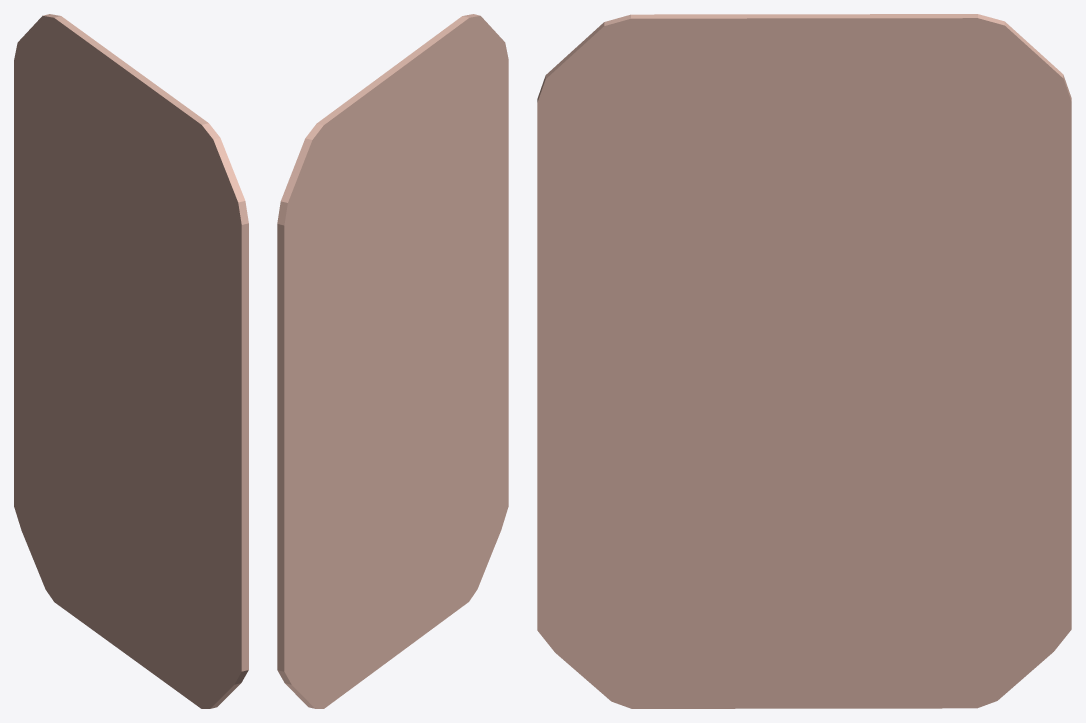
Rendered from SM_Glass_Back_Right.fbx.
The picture shows the model from 3 angles, left to right: view 1: azimuth 30°, elevation 25°; view 2: azimuth 150°, elevation 25°; view 3: azimuth 270°, elevation 25°; orthographic projection. The views are drawn at different scales.
Parts seen in each view (by area): view 1: Glass_Back_Right_Mesh; view 2: Glass_Back_Right_Mesh; view 3: Glass_Back_Right_Mesh.
Part boxes in pixels (box(x1,y1,x2,y2)): Glass_Back_Right_Mesh: box(14, 14, 248, 708); Glass_Back_Right_Mesh: box(277, 14, 508, 708); Glass_Back_Right_Mesh: box(537, 14, 1071, 708).
Size of the model in its own units: 1.76 by 112 by 78.43.
